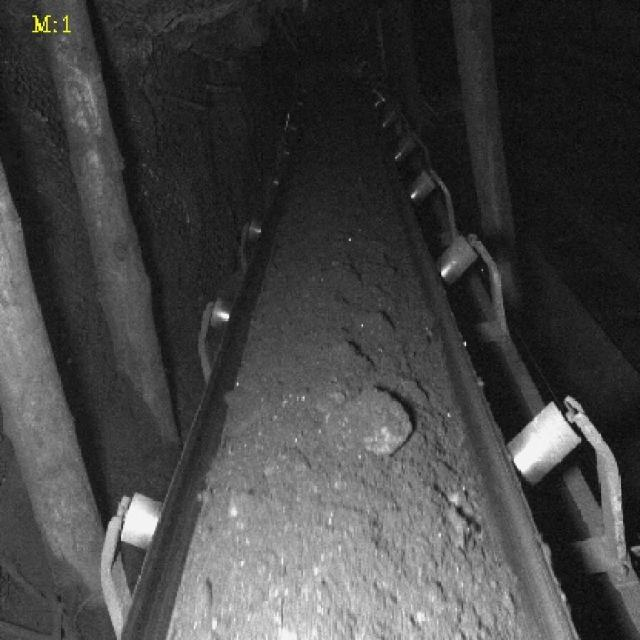large_sized_coal: (334, 395, 409, 460)
